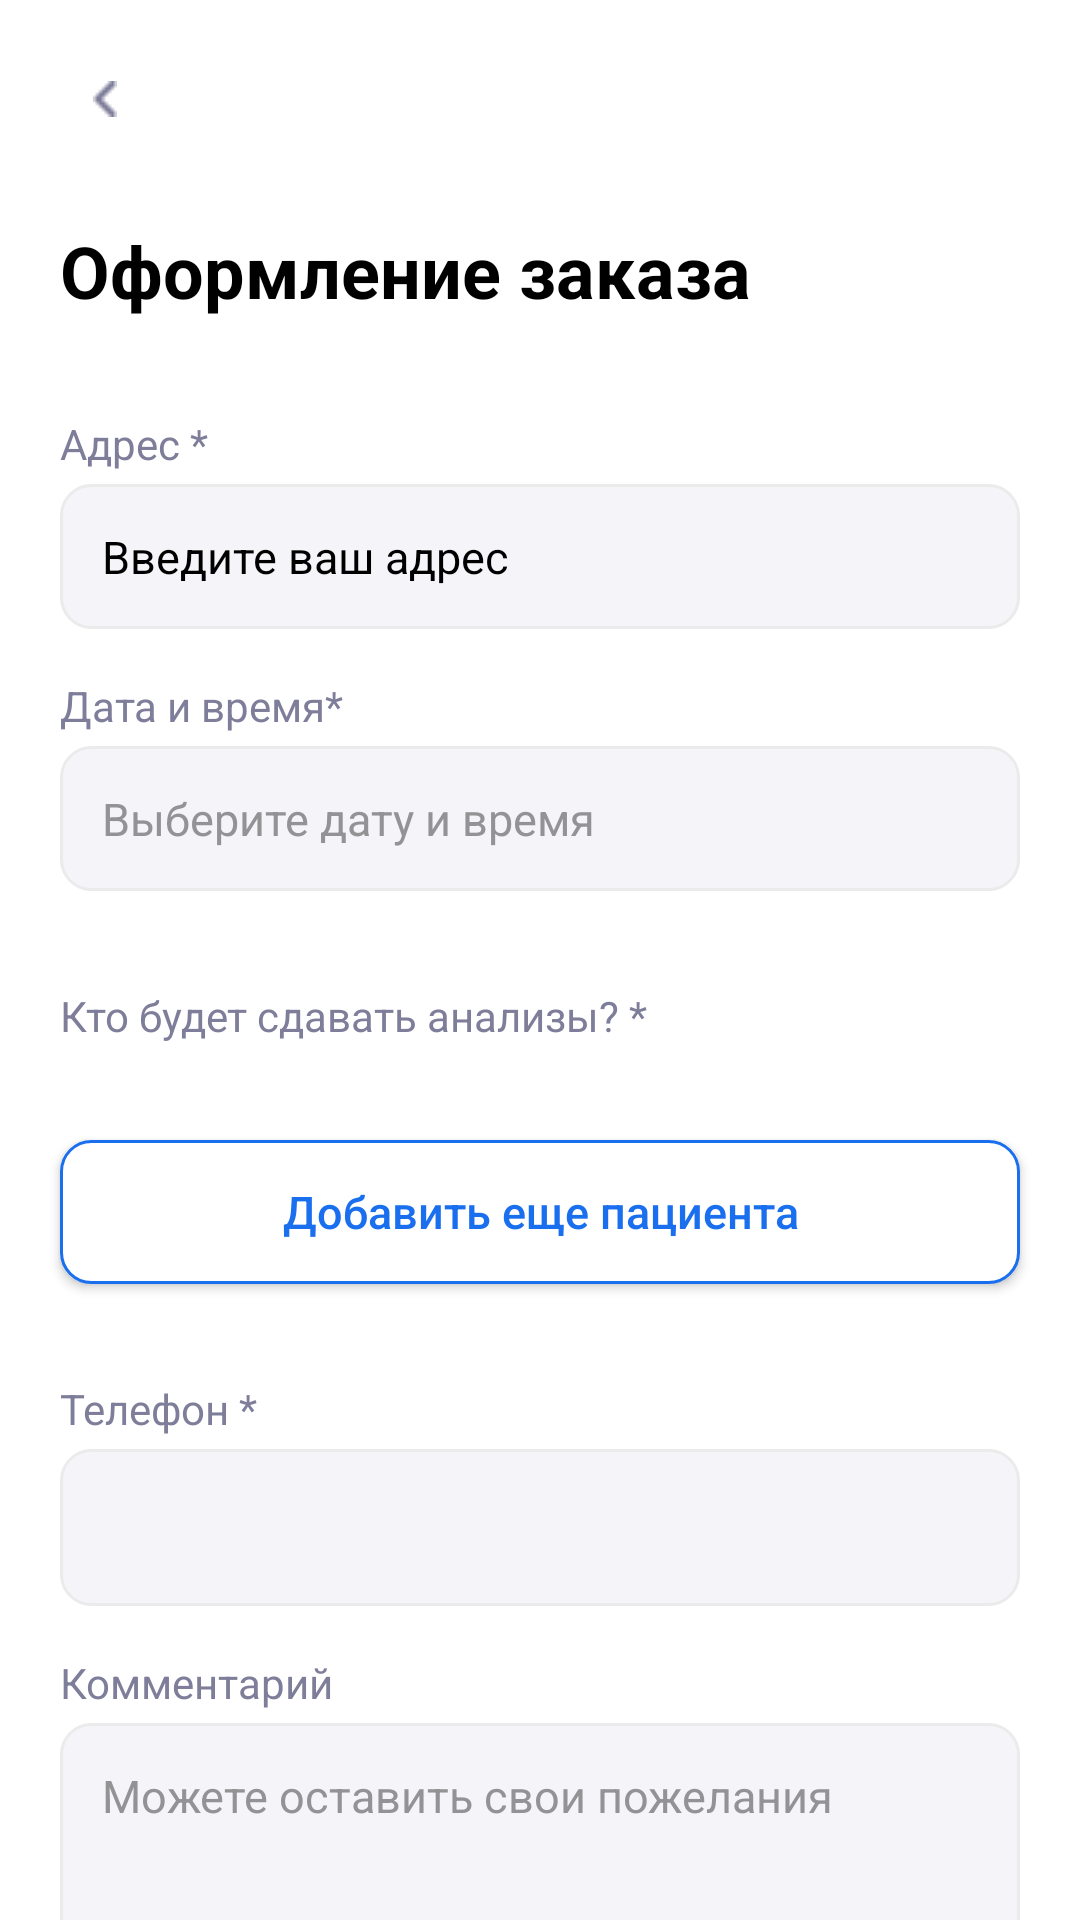

Where icons sit on this 1080px×1920px app screen, as (left=x1, top=y1, right=x2, bottom=y2):
arrow back: (left=93, top=81, right=117, bottom=117)
